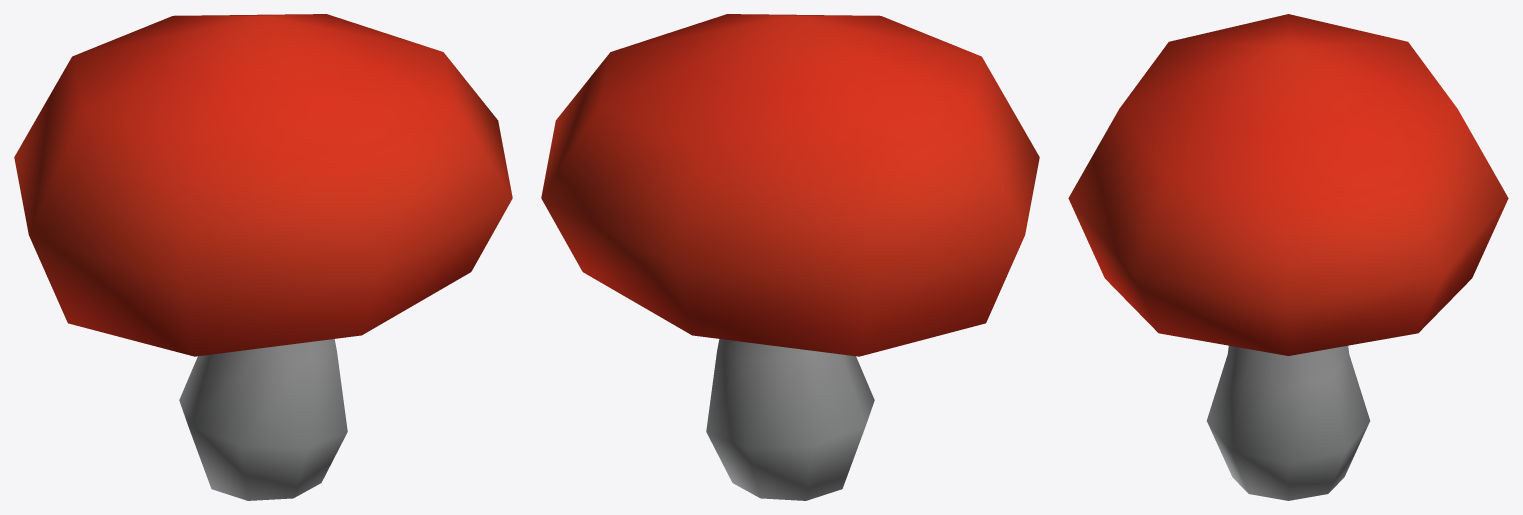
The model's file is Mushroom_1.fbx.
The picture shows the model from 3 angles, left to right: view 1: azimuth 30°, elevation 25°; view 2: azimuth 150°, elevation 25°; view 3: azimuth 270°, elevation 25°; orthographic projection. The views are drawn at different scales.
Visible parts, largest first — view 1: Mushroom_1; view 2: Mushroom_1; view 3: Mushroom_1.
Part boxes in pixels (x1,y1,x2,y2): Mushroom_1: (14,14,512,500); Mushroom_1: (541,14,1039,500); Mushroom_1: (1068,14,1508,500).
Bounding box in the file's own units: 184 × 180 × 160.
